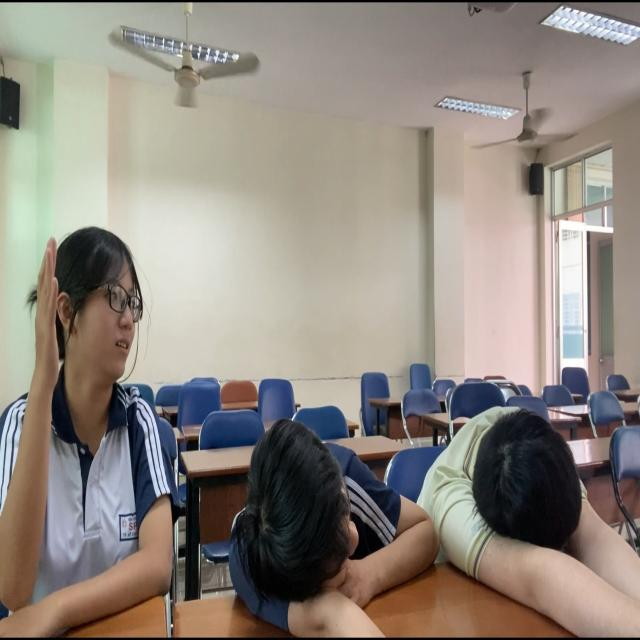raise_hand: (1, 220, 174, 629)
sleep: (204, 403, 432, 630), (413, 391, 640, 597)
